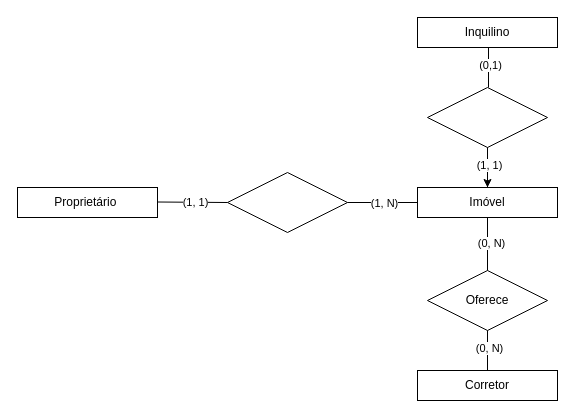
The diagram is 575 pixels wide and 418 high, and some of its shapes have lost their labels. Each missing label, with the centre of its shape:
"Aluga" belongs at (487,117).
"Possui" belongs at (287,202).
